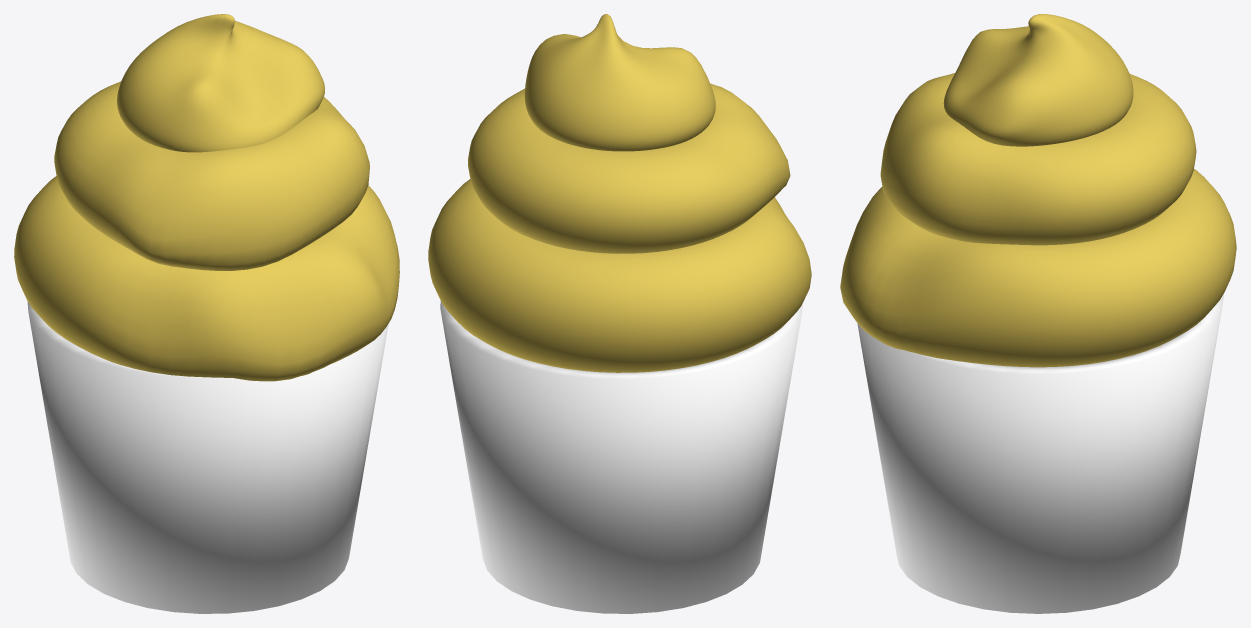
File: mango_good.glb
3 views of the same model, side by side, from view 1: azimuth 30°, elevation 25°; view 2: azimuth 150°, elevation 25°; view 3: azimuth 270°, elevation 25° (orthographic). The views are drawn at different scales.
Visible parts, largest first — view 1: 圓柱體, 環體, 環體.001, 球體; view 2: 圓柱體, 環體, 環體.001, 球體; view 3: 圓柱體, 環體, 環體.001, 球體.
Boxes of the visible parts, x1,y1,x2,y2 form: 圓柱體: (27, 301, 388, 613); 環體: (14, 176, 399, 381); 環體.001: (54, 81, 369, 270); 球體: (117, 14, 324, 152); 圓柱體: (440, 301, 802, 613); 環體: (428, 179, 811, 372); 環體.001: (468, 83, 790, 253); 球體: (524, 14, 715, 151); 圓柱體: (857, 294, 1223, 613); 環體: (840, 169, 1236, 367); 環體.001: (880, 73, 1196, 245); 球體: (943, 14, 1133, 146).
Size of the model in its own units: 2.91 by 4.46 by 2.94.
Materials: 2 (1 with a texture image).
